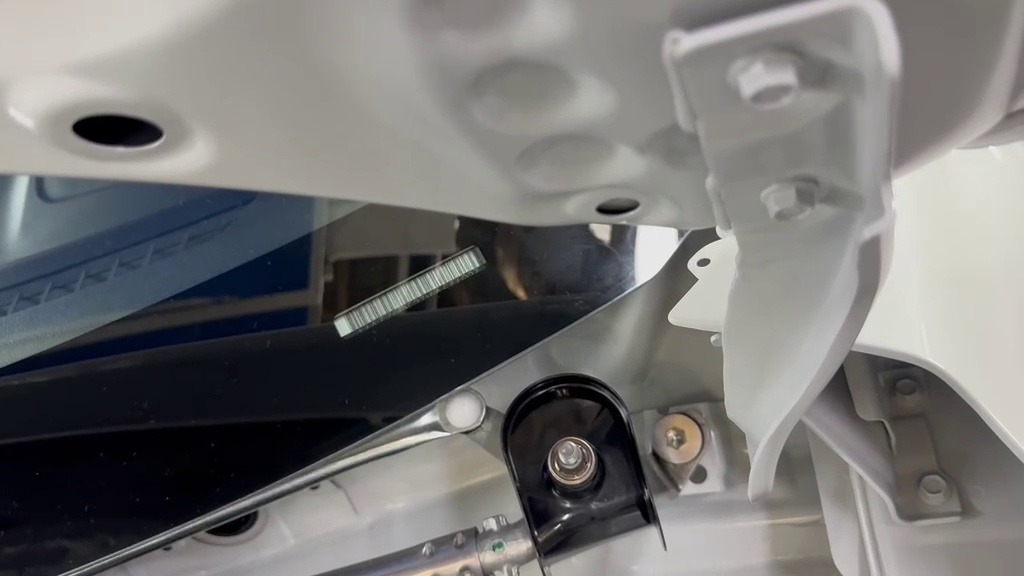barcode: (469, 365, 705, 576)
hinge: (302, 215, 535, 362)
